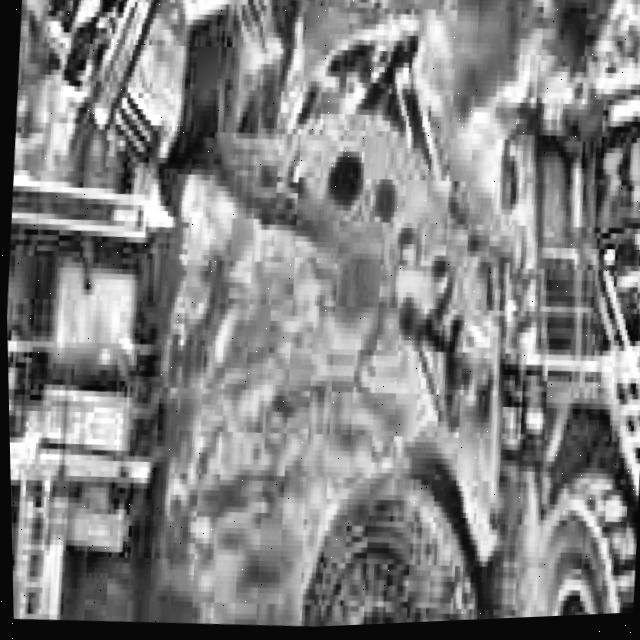buldozerpayloadergrader: (32, 0, 640, 639)
dump_truck: (2, 116, 192, 629)
